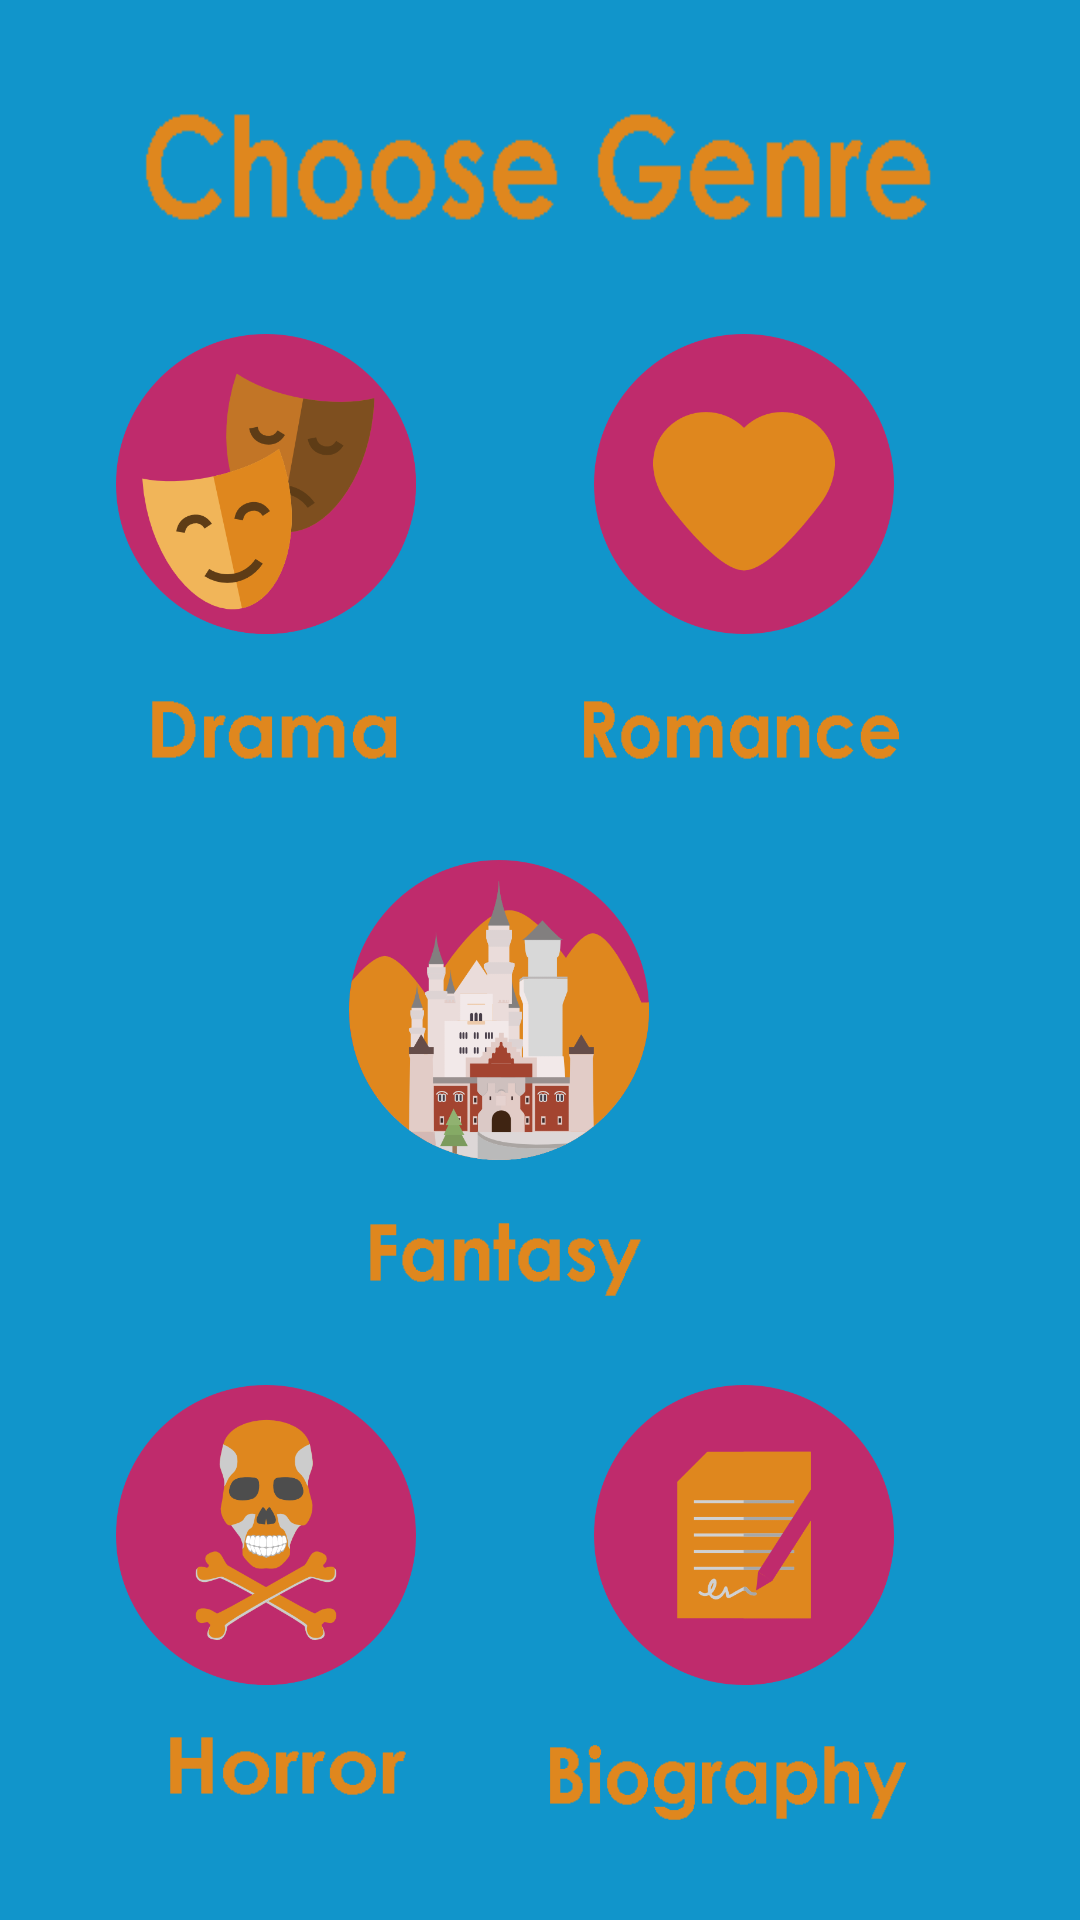

Point at icon controls on the screen. Image size 1080×1920, points as point (x, y).
castle: point (499, 1010)
heart: point (744, 484)
